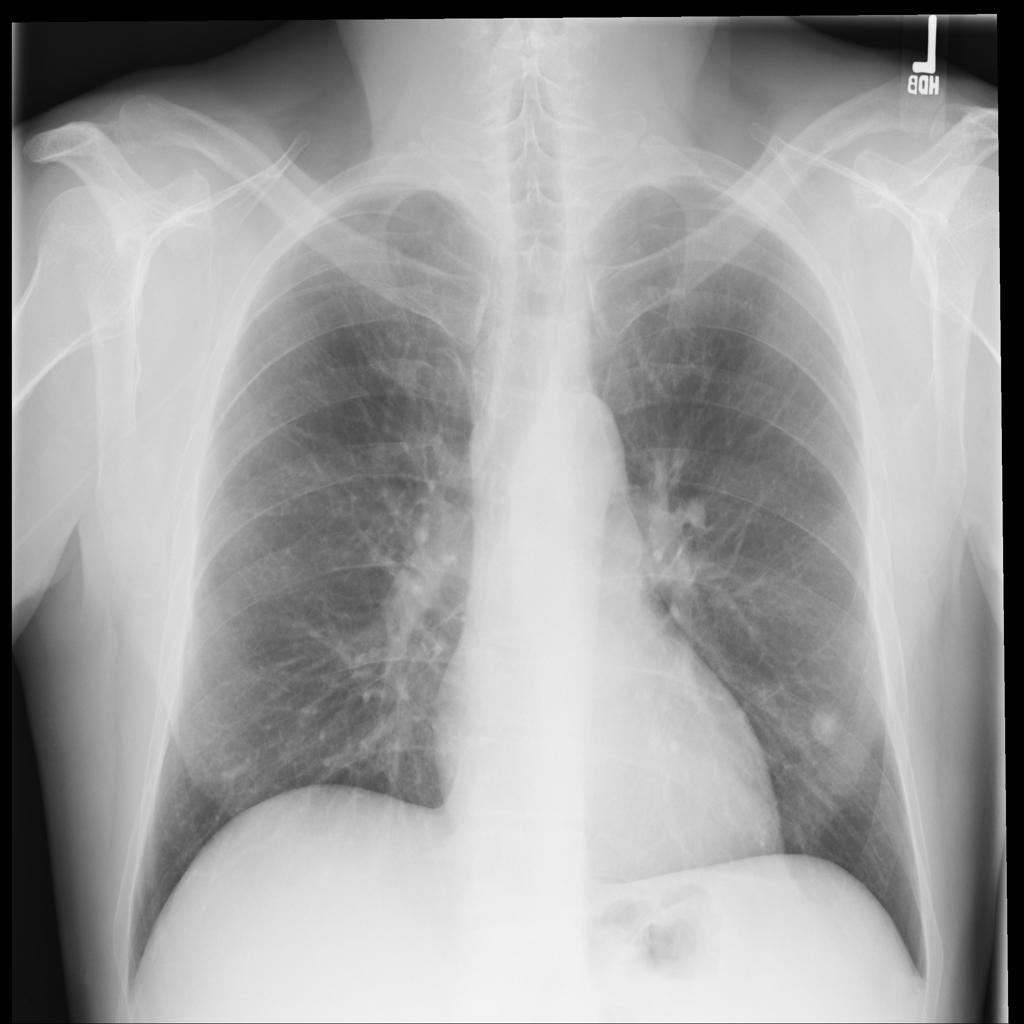nodule: (797, 684, 865, 761)
